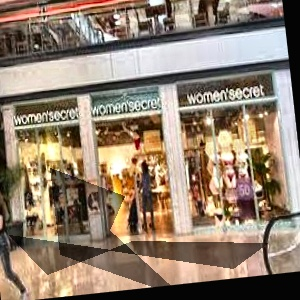women_secret: (79, 16, 299, 169), (101, 24, 225, 168), (57, 38, 105, 176)
